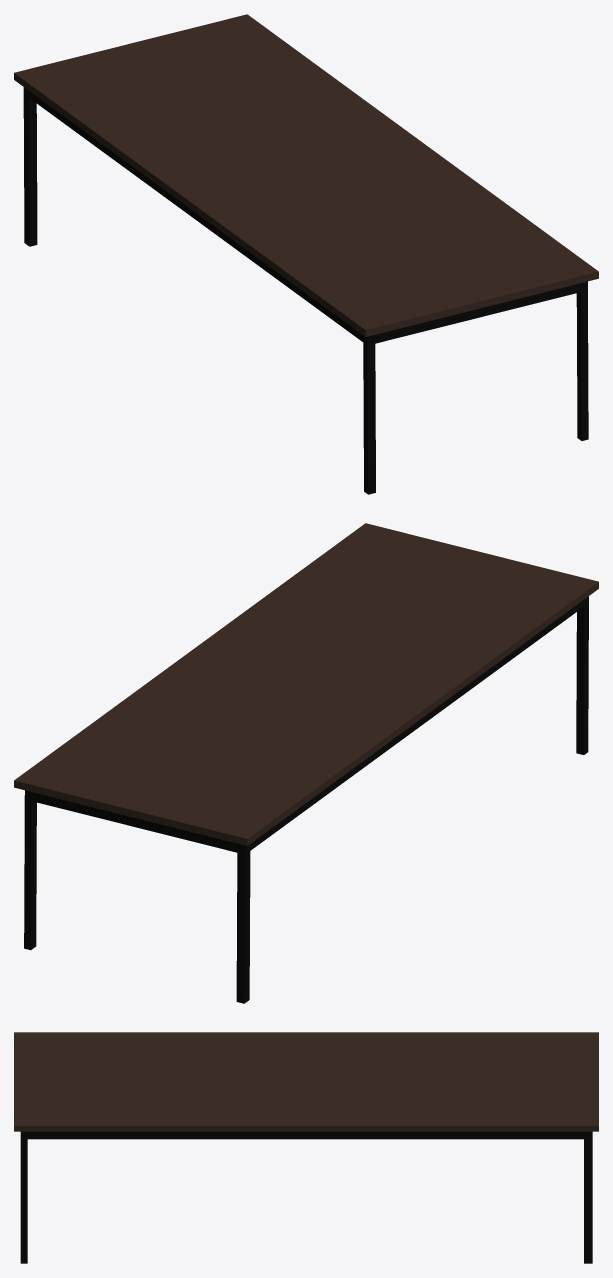
File: mesa_substance.fbx
The picture shows the model from 3 angles, top to bottom: view 1: azimuth 30°, elevation 25°; view 2: azimuth 150°, elevation 25°; view 3: azimuth 270°, elevation 25°; orthographic projection. The views are drawn at different scales.
Visible parts, largest first — view 1: pCube2 (×2); view 2: pCube2 (×2); view 3: pCube2 (×2).
Part boxes in pixels (left/top/right/bottom): pCube2 (×2): left=14, top=14, right=598, bottom=494; pCube2 (×2): left=14, top=523, right=598, bottom=1003; pCube2 (×2): left=14, top=1032, right=598, bottom=1263.
Size of the model in its own units: 5.38 by 3.76 by 14.02.
